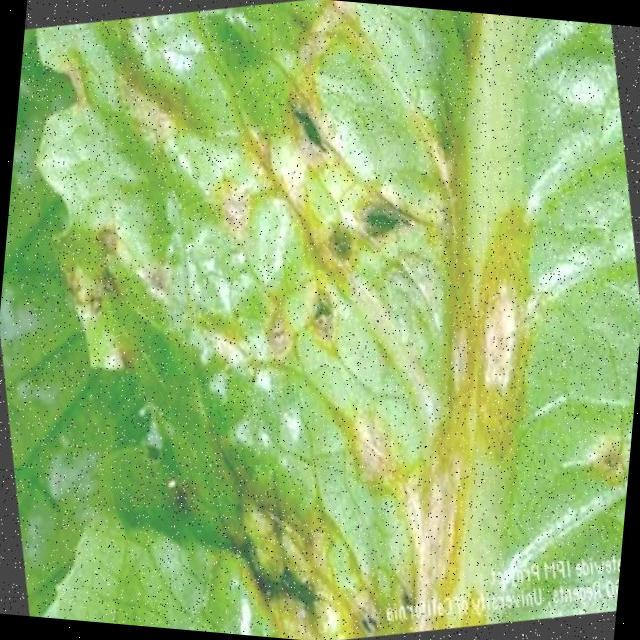Bacterial: (153, 15, 476, 432)
